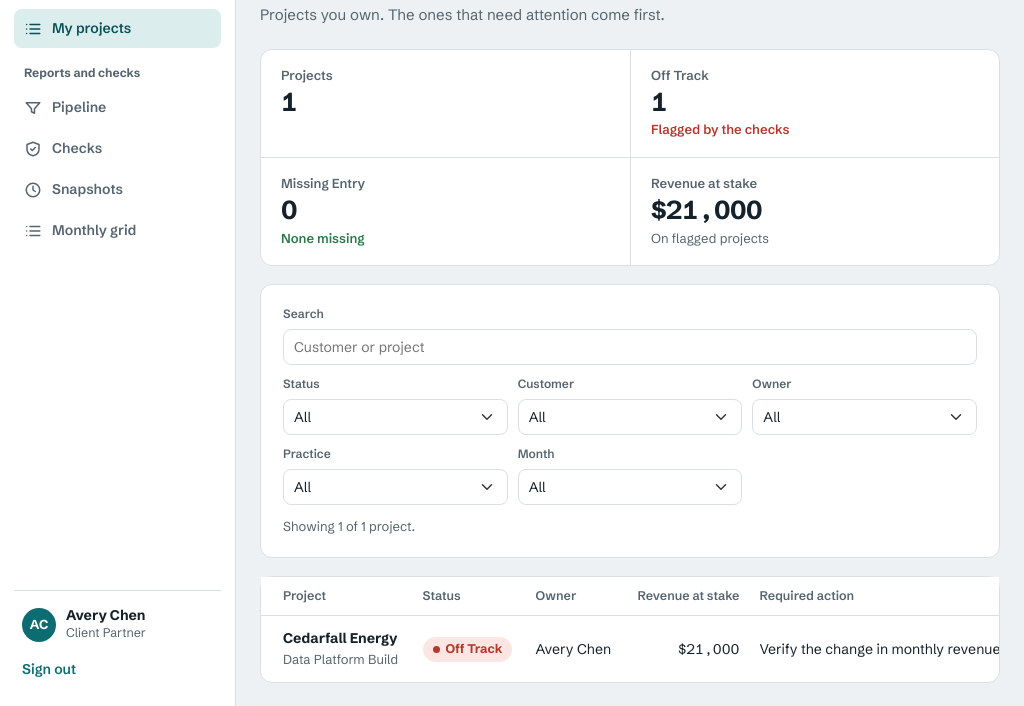
My projects (Client Partner) › filters by status and says so when nothing matches
This screenshot has width=1024, height=706.
Expected: the row named "Open Cedarfall Energy" is shown, x1=261 y1=616 x2=999 y2=682
Select "On Track" in the dropdown labelled "Status". click: (395, 417)
box: x1=283 y1=399 x2=508 y2=435
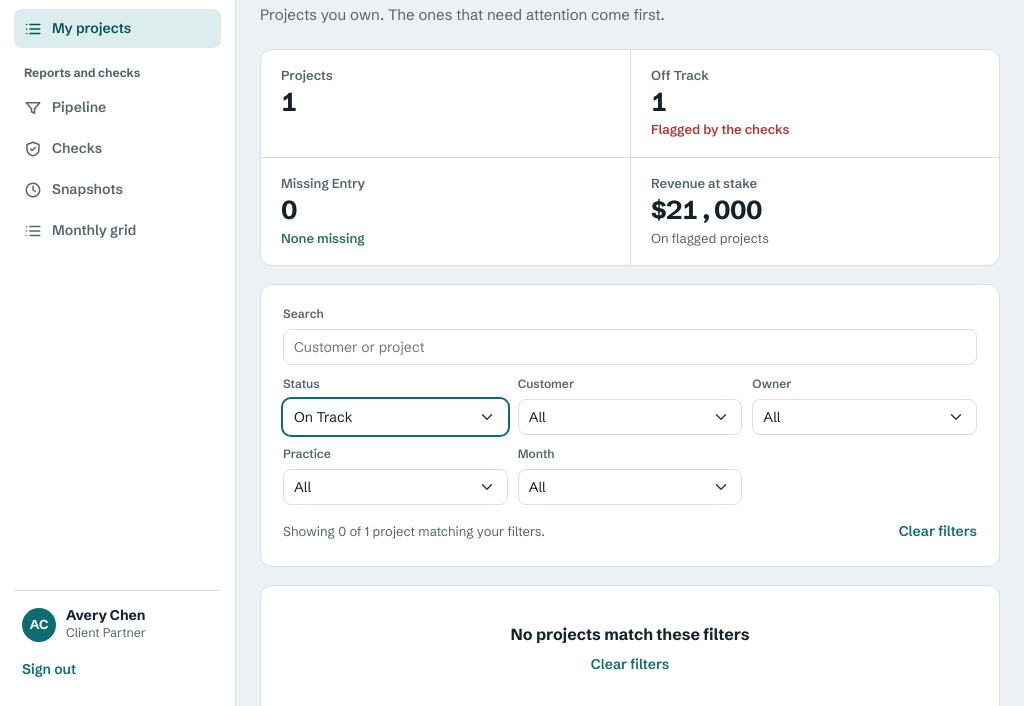
Expected: the text "No projects match these filters" is shown, x1=511 y1=624 x2=749 y2=644
Click the button "Clear filters" in the row of "matching your filters". click: (938, 532)
box: x1=899 y1=517 x2=977 y2=546
(page scrolled)
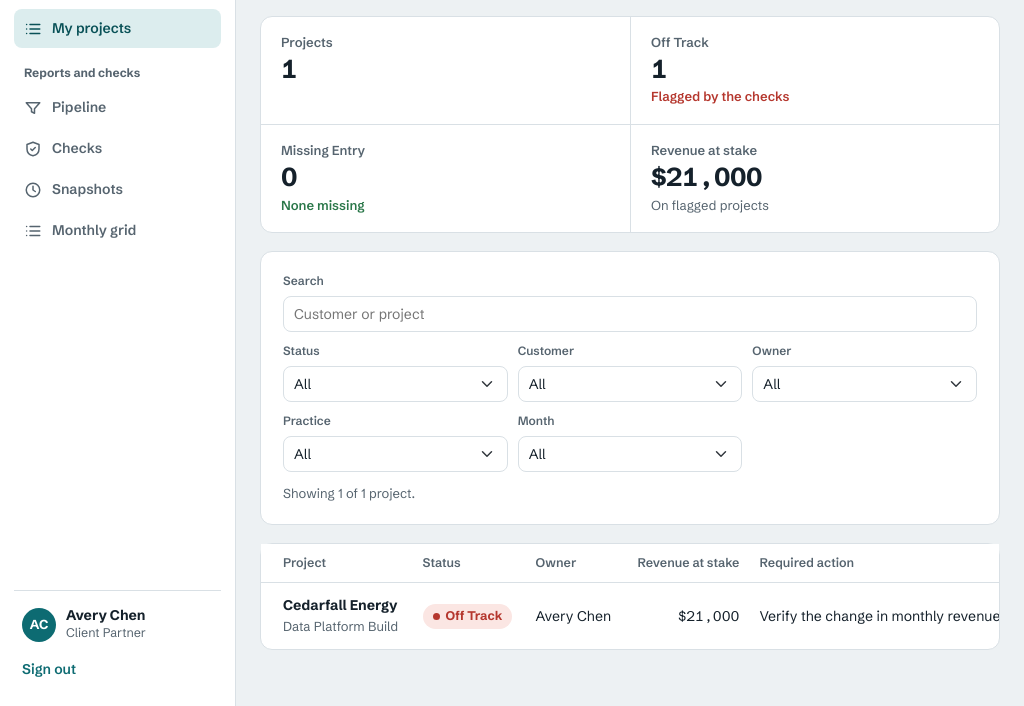
Expected: the row named "Open Cedarfall Energy" is shown, x1=261 y1=583 x2=999 y2=649
